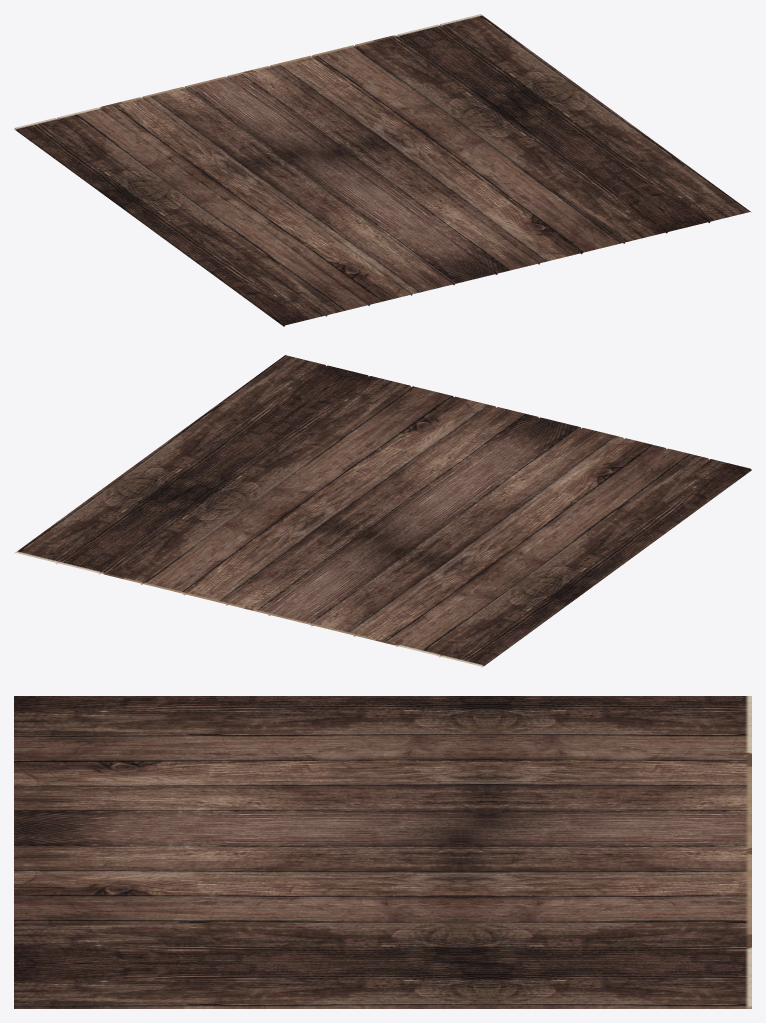
Rendered from MOD_Floor_Parquet_A_high.fbx.
3 renders of one model, top to bottom at view 1: azimuth 30°, elevation 25°; view 2: azimuth 150°, elevation 25°; view 3: azimuth 270°, elevation 25°, orthographic. The views are drawn at different scales.
Parts seen in each view (by area): view 1: MOD_Floor_Parquet_A_high; view 2: MOD_Floor_Parquet_A_high; view 3: MOD_Floor_Parquet_A_high.
Boxes of the visible parts, bbox=[...] form: MOD_Floor_Parquet_A_high: bbox=[14, 14, 751, 326]; MOD_Floor_Parquet_A_high: bbox=[14, 355, 751, 667]; MOD_Floor_Parquet_A_high: bbox=[14, 696, 751, 1008].
Bounding box in the file's own units: 200 × 0.5 × 200.
1 material, 1 textured.
